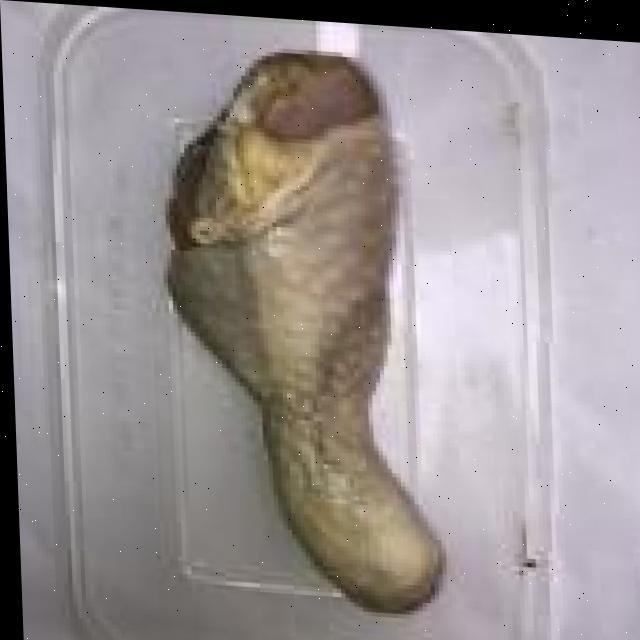leg: (160, 38, 456, 597)
